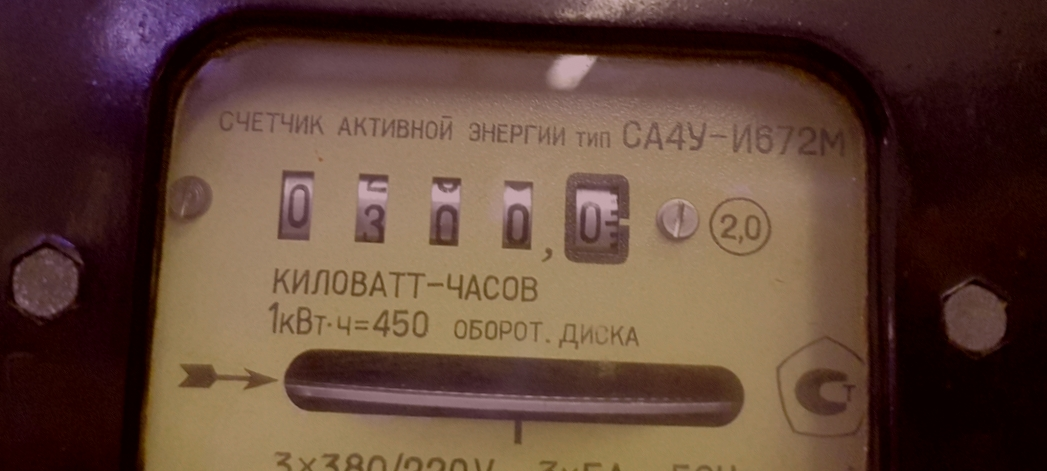0: (501, 202, 532, 249), (576, 199, 605, 249), (431, 201, 460, 250), (285, 180, 312, 232)
3: (358, 201, 388, 245)
screen: (256, 153, 641, 275)
